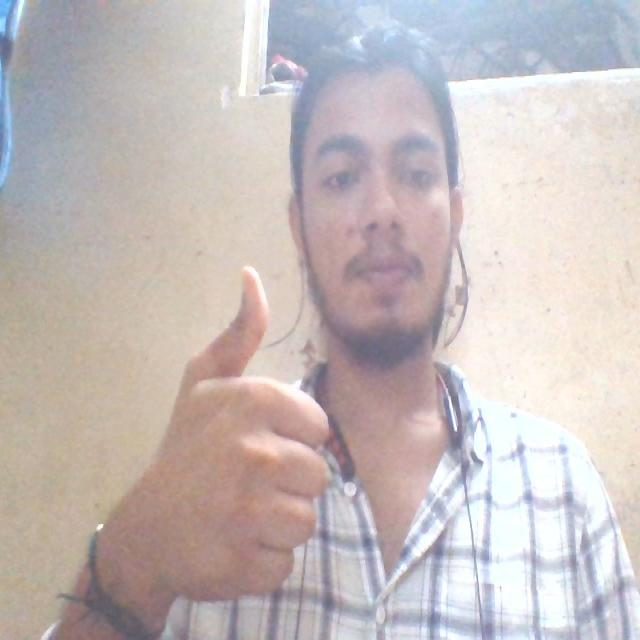Yes: (148, 258, 338, 607)
